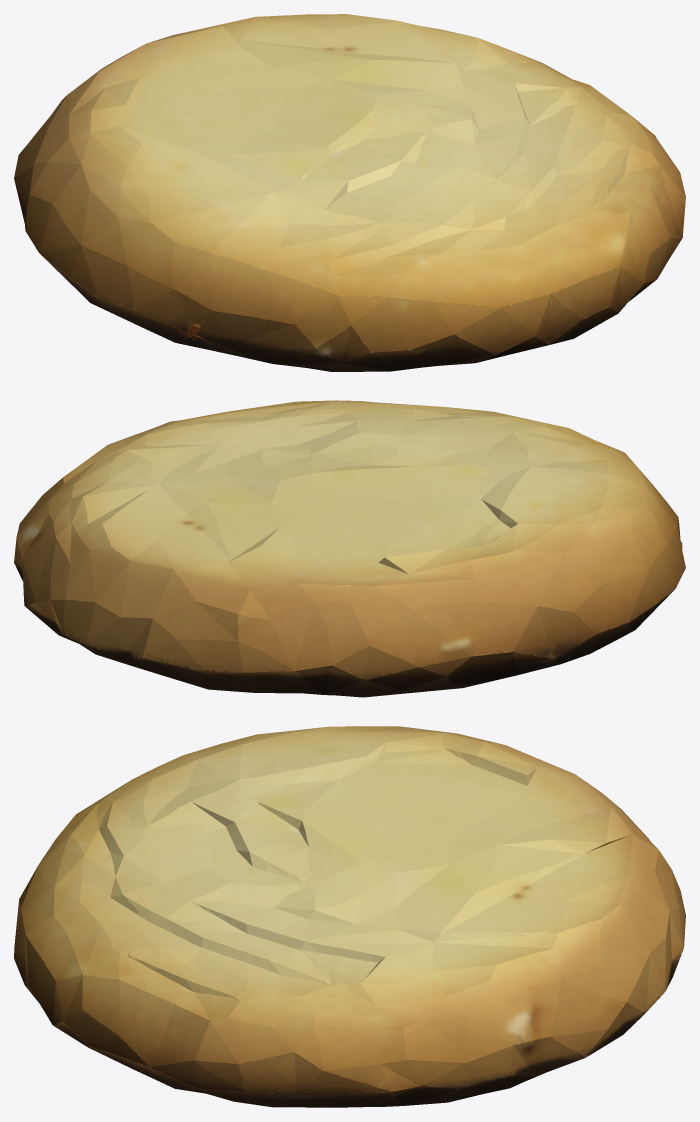
3 renders of one model, top to bottom at view 1: azimuth 30°, elevation 25°; view 2: azimuth 150°, elevation 25°; view 3: azimuth 270°, elevation 25°, orthographic. The views are drawn at different scales.
Visible parts, largest first — view 1: visual_mesh; view 2: visual_mesh; view 3: visual_mesh.
Boxes of the visible parts, x1,y1,x2,y2 form: visual_mesh: [14, 14, 685, 371]; visual_mesh: [14, 400, 685, 697]; visual_mesh: [14, 726, 685, 1107].
Size of the model in its own units: 0.1215 by 0.0306 by 0.1166.
1 material, 1 textured.
